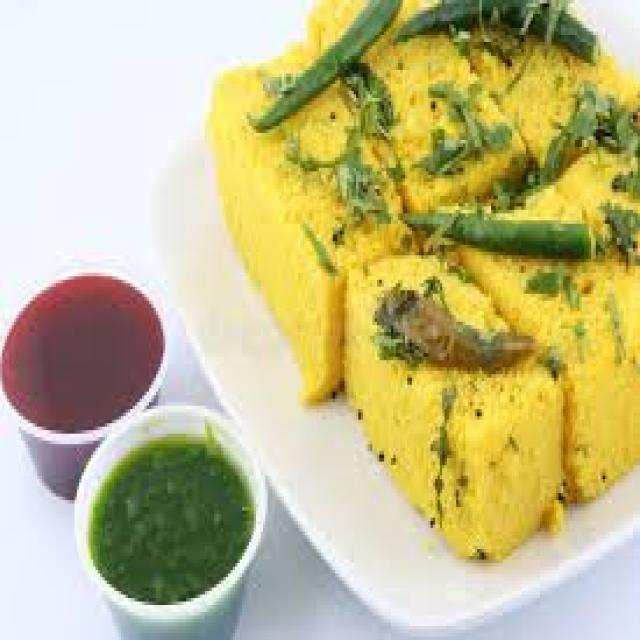DHOKLA: (347, 255, 561, 553)
